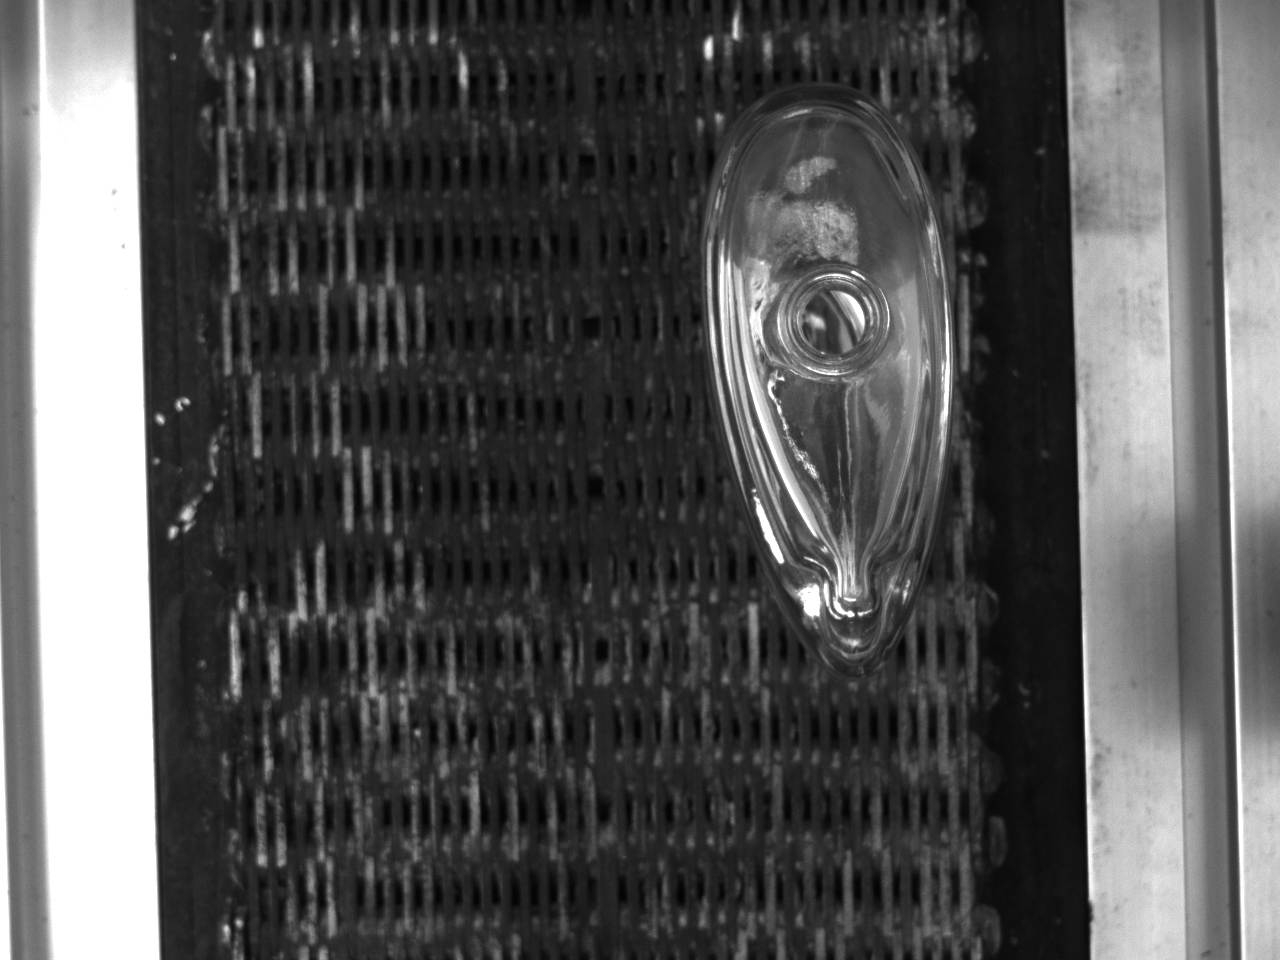bottleneck: (783, 268, 891, 375)
